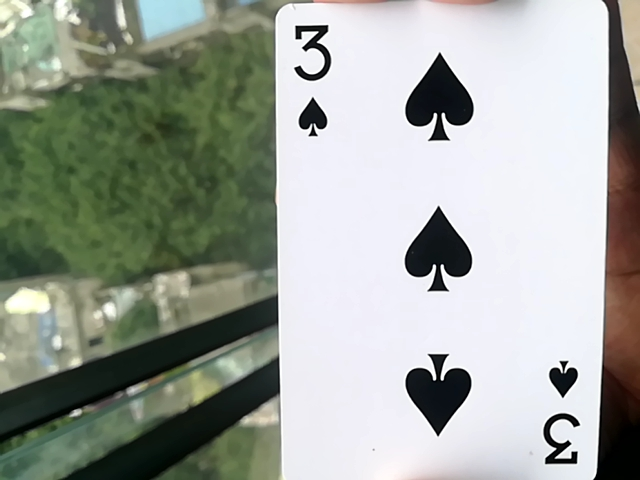ht 3: (250, 8, 606, 477)
